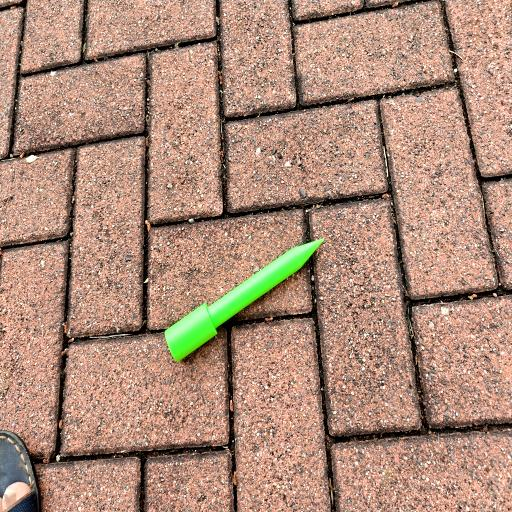Probe-Detection: (165, 238, 324, 362)
